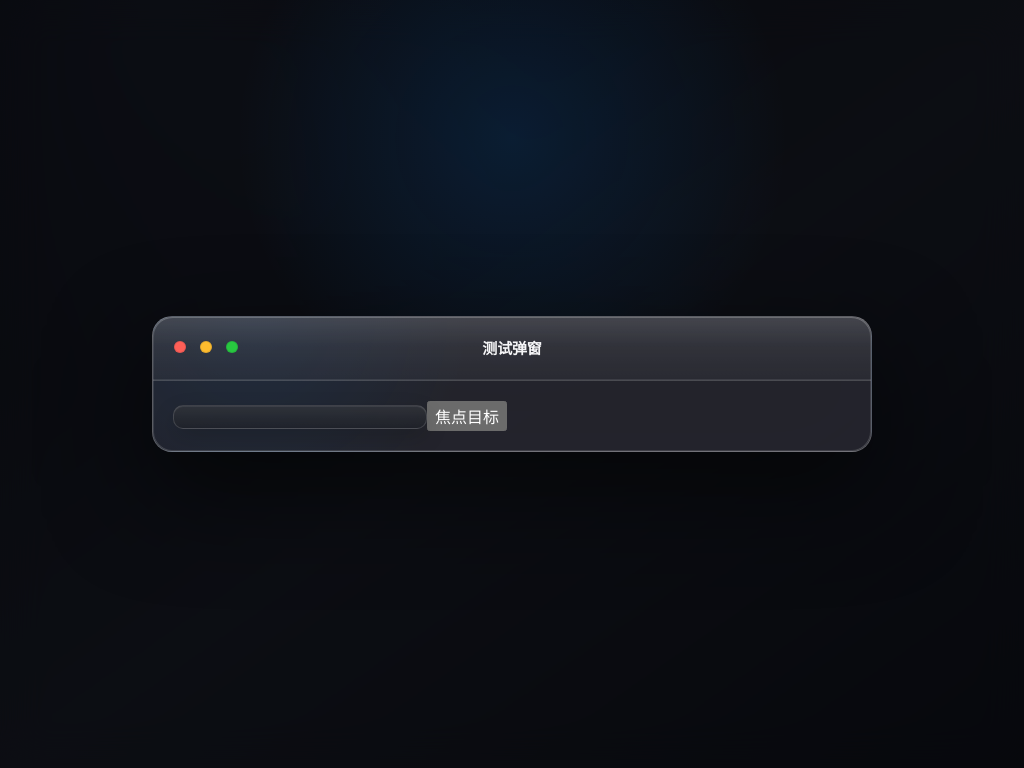
Test: MacDialog real component behavior › asks for confirmation when editable values changed and keeps the form intact
This screenshot has width=1024, height=768.
Type "已经填写的重要内容" into the field with class "slot-input" at {"x": 300, "y": 417}, box [173,405,427,429]
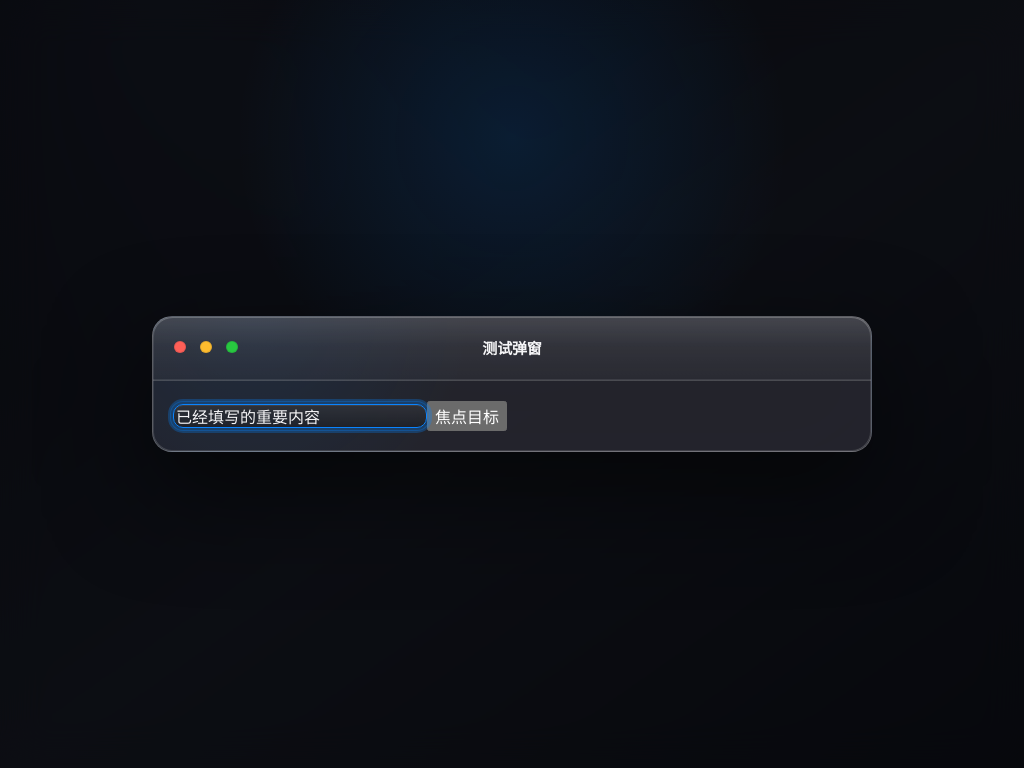
Click the button with class "close" at {"x": 180, "y": 346}, box [168,334,192,358]
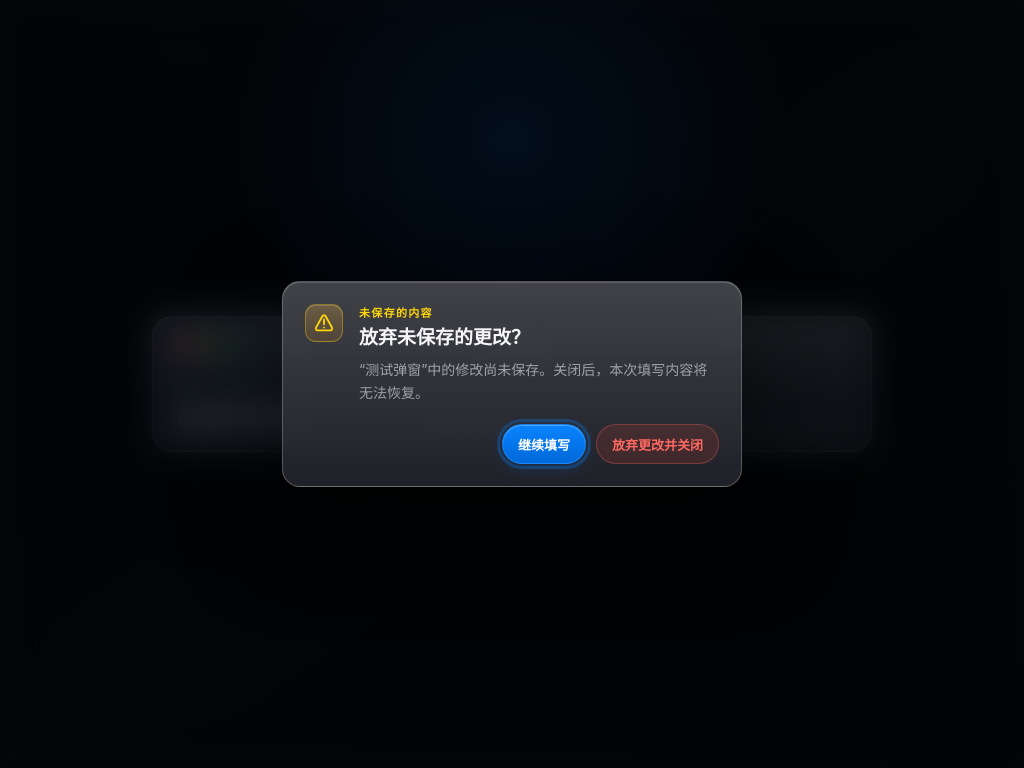
Now the dialog with class "mac-dialog-confirm-card" is shown, box [282,281,742,487]
Click the button with class "mac-dialog-confirm-keep" at {"x": 544, "y": 444}, box [502,424,586,464]
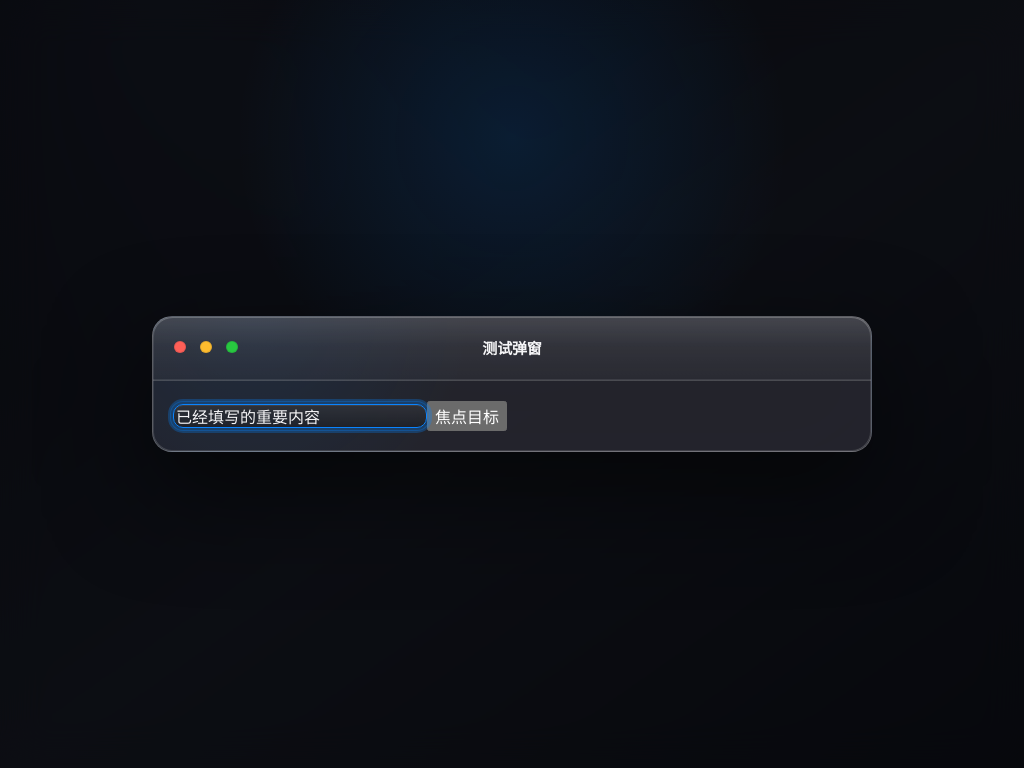
Now the dialog with class "mac-dialog-confirm-card" is gone
